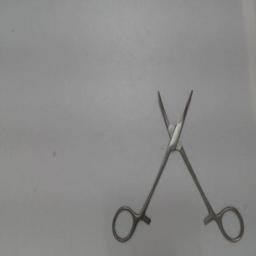Crile Artery Forceps: (108, 82, 248, 248)
